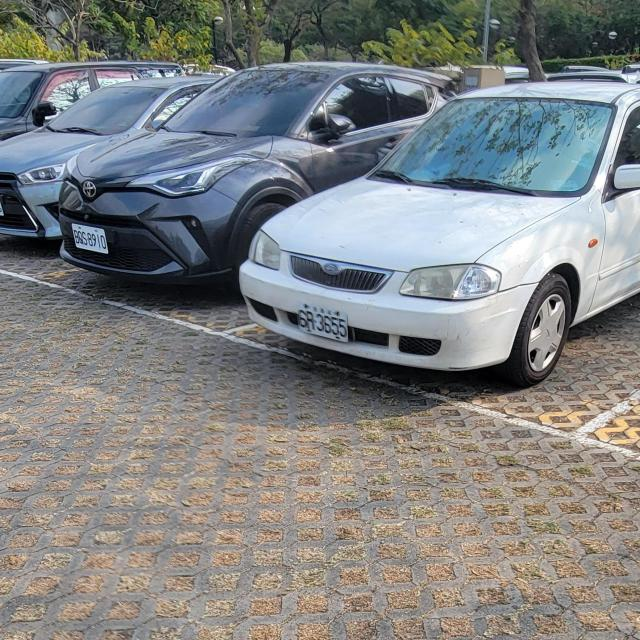W: (295, 300, 348, 342), (71, 223, 107, 255)
